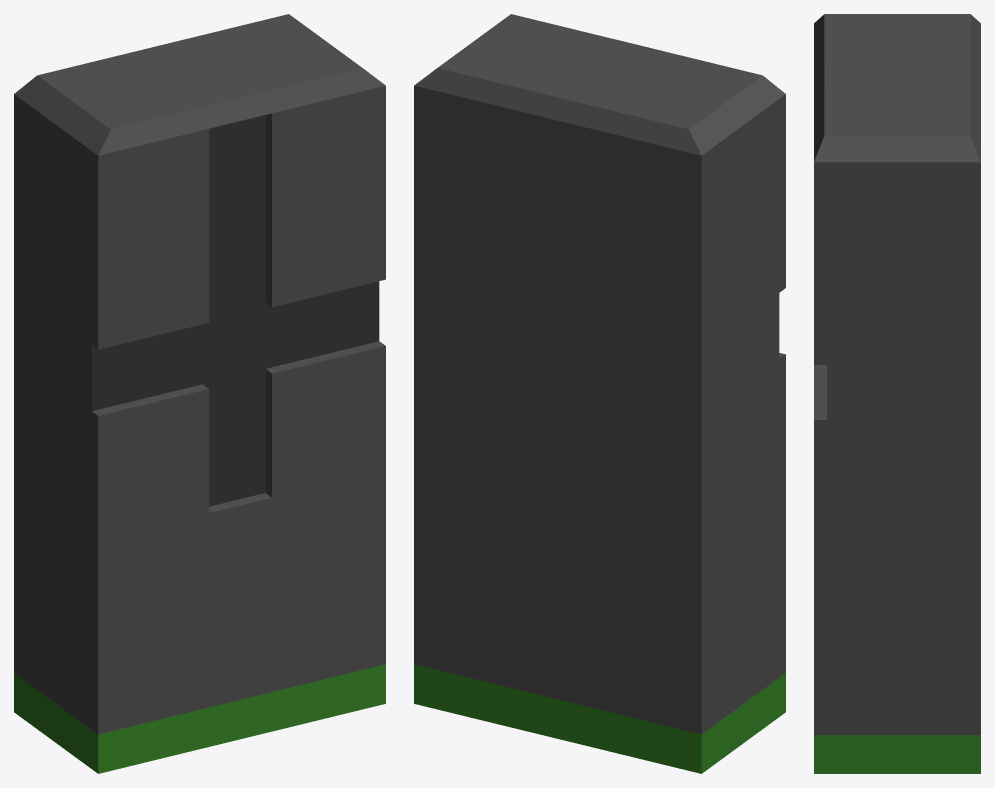
The model's file is tumba.fbx.
The picture shows the model from 3 angles, left to right: view 1: azimuth 30°, elevation 25°; view 2: azimuth 150°, elevation 25°; view 3: azimuth 270°, elevation 25°; orthographic projection.
Visible parts, largest first — view 1: Cube.002; view 2: Cube.002; view 3: Cube.002.
Boxes of the visible parts, x1,y1,x2,y2 form: Cube.002: [14, 14, 385, 773]; Cube.002: [414, 14, 785, 773]; Cube.002: [814, 14, 980, 773].
Size of the model in its own units: 0.4817 by 1.02 by 0.2445.
